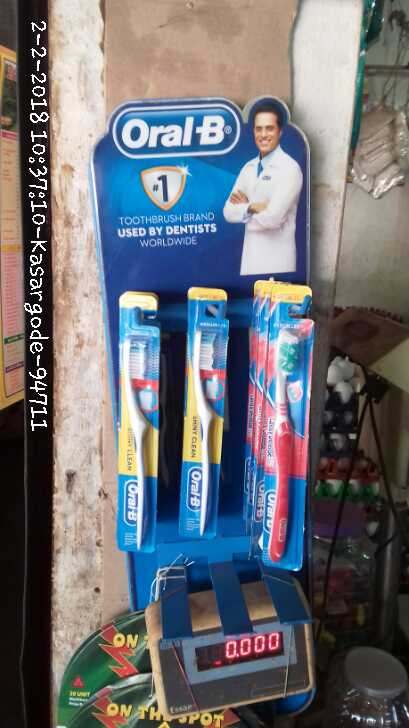oralb: (247, 327, 302, 550), (116, 332, 153, 551), (187, 321, 222, 550)
